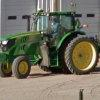Tractor: (6, 6, 99, 84)
